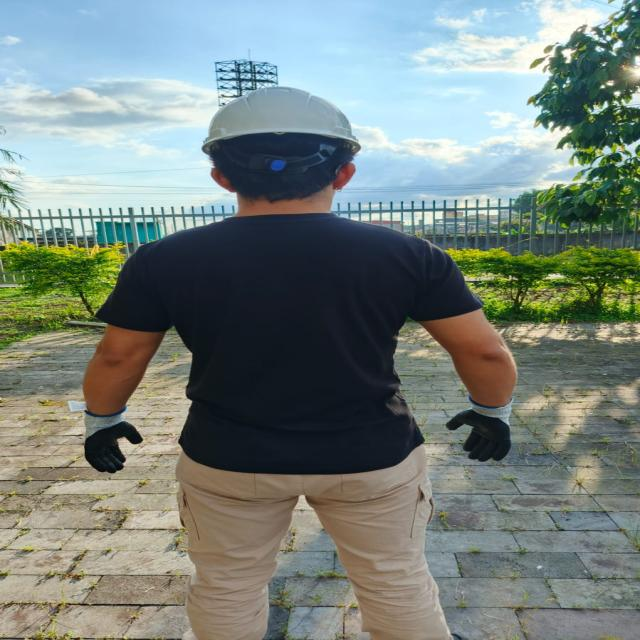gloves: (446, 397, 511, 461), (83, 405, 142, 473)
helmet: (202, 86, 360, 154)
